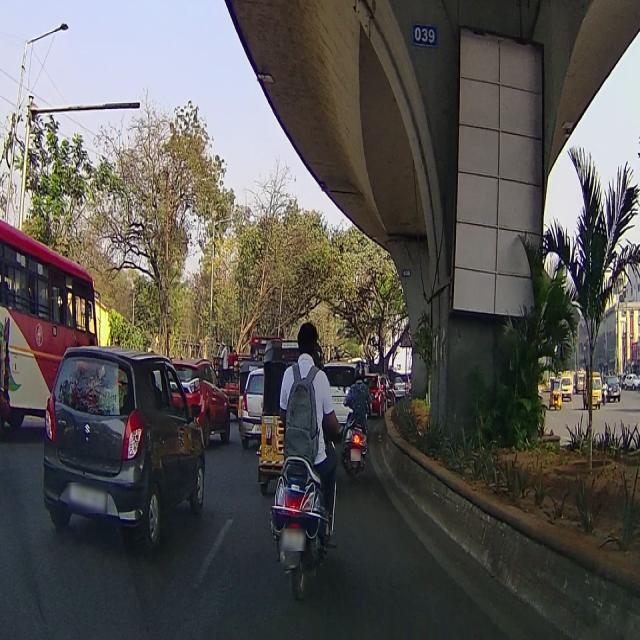gap-in-median: (399, 326, 412, 348)
